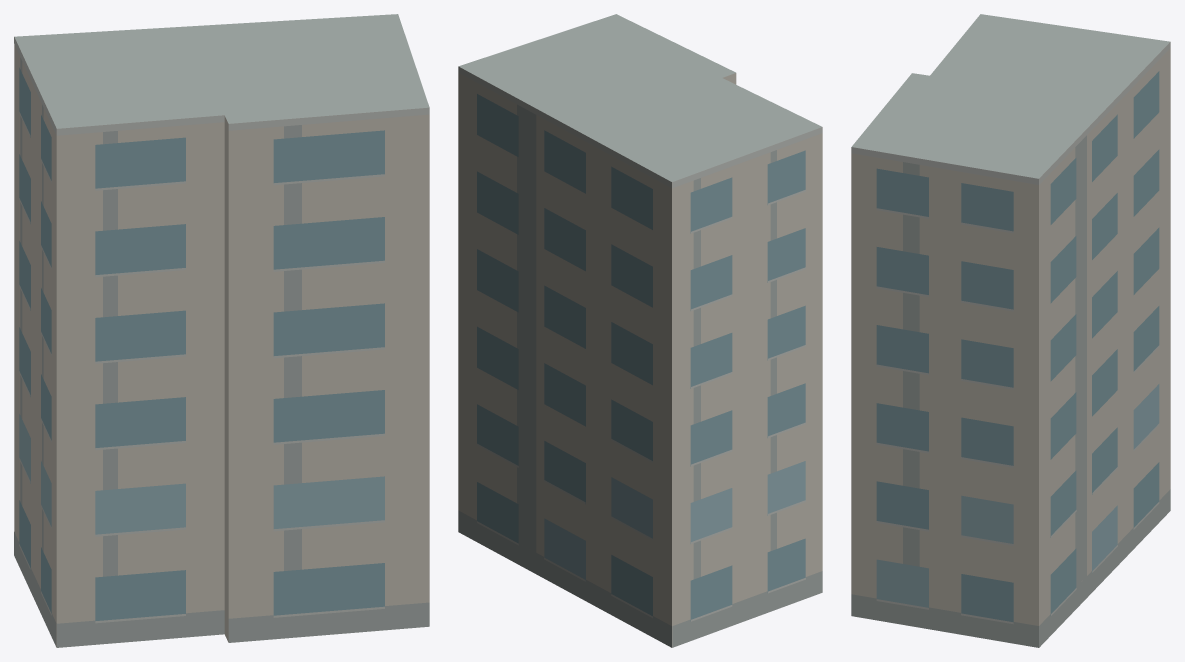
The model's file is survey-upis-32612079.glb.
3 views of the same model, side by side, from view 1: azimuth 30°, elevation 25°; view 2: azimuth 150°, elevation 25°; view 3: azimuth 270°, elevation 25° (orthographic). The views are drawn at different scales.
Visible parts, largest first — view 1: survey-upis-32612079.tmp; view 2: survey-upis-32612079.tmp; view 3: survey-upis-32612079.tmp.
Boxes of the visible parts, x1=… form: survey-upis-32612079.tmp: x1=14, y1=14, x2=429, y2=647; survey-upis-32612079.tmp: x1=458, y1=14, x2=822, y2=647; survey-upis-32612079.tmp: x1=851, y1=14, x2=1170, y2=647.
Size of the model in its own units: 13.8 by 18.3 by 11.3.
